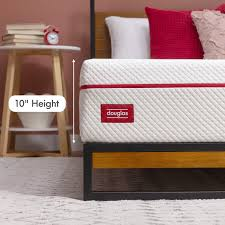bed-matress: (78, 54, 225, 143)
